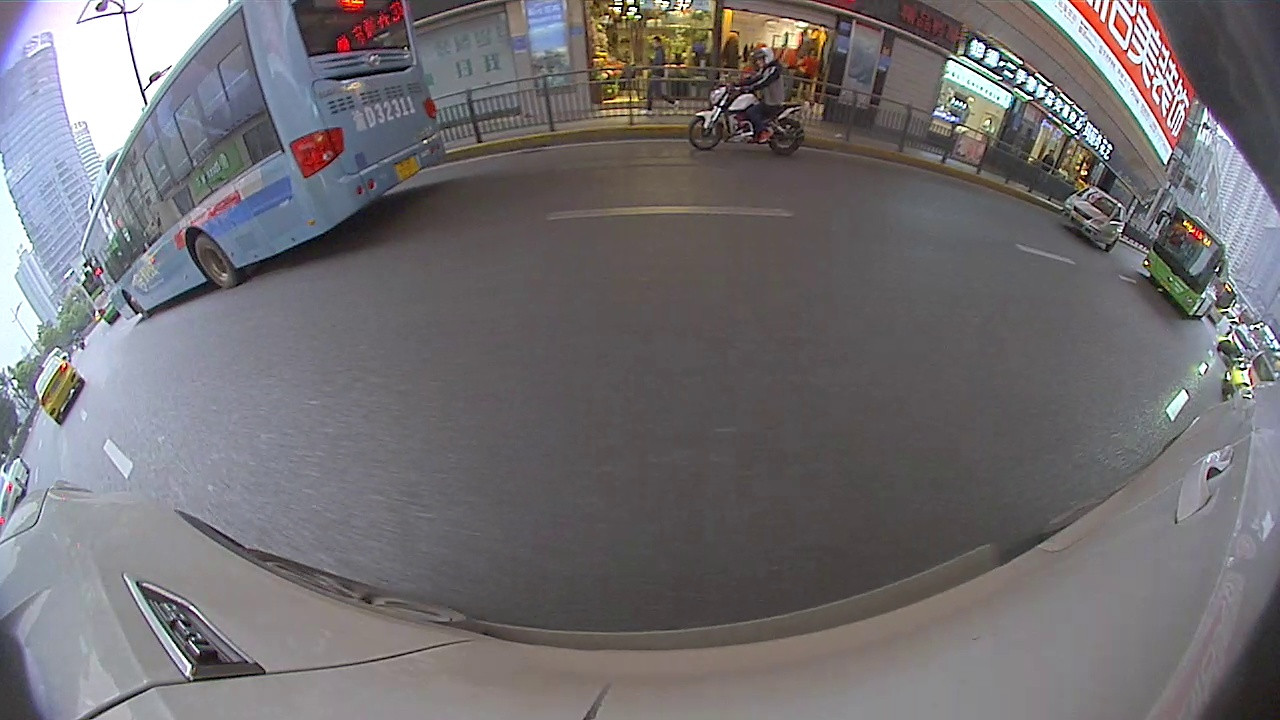bus: (83, 1, 448, 329), (1141, 204, 1233, 320)
car: (30, 351, 87, 427)
front: (687, 117, 723, 150)
rear: (180, 234, 236, 290), (770, 119, 805, 151)
rider: (686, 50, 806, 152), (1057, 189, 1131, 251)
